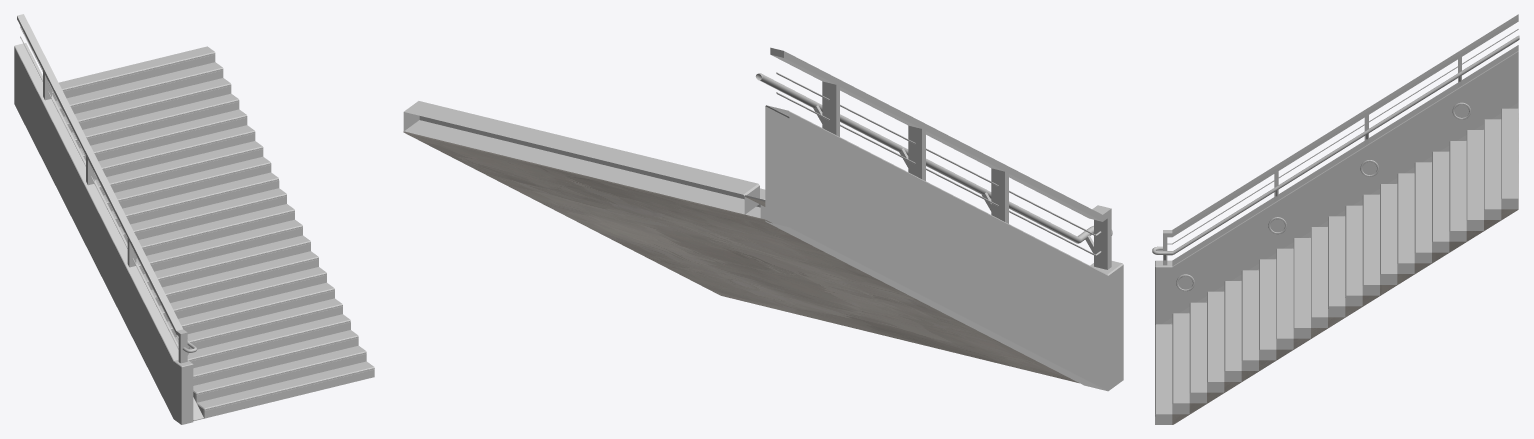
File: MESH_StairsL_First.fbx
The picture shows the model from 3 angles, left to right: view 1: azimuth 30°, elevation 25°; view 2: azimuth 150°, elevation 25°; view 3: azimuth 270°, elevation 25°; orthographic projection. The views are drawn at different scales.
Parts seen in each view (by area): view 1: StairsL, ConcreteBaseL, HandleL; view 2: ConcreteBaseL, StairsL, HandleL; view 3: StairsL, ConcreteBaseL, HandleL, LampsL.
Part boxes in pixels (box(x1,y1,x2,y2)): StairsL: box(52, 46, 374, 420); ConcreteBaseL: box(14, 43, 193, 424); HandleL: box(17, 14, 197, 363); ConcreteBaseL: box(765, 105, 1123, 391); StairsL: box(403, 101, 1079, 383); HandleL: box(755, 47, 1112, 269); StairsL: box(1155, 103, 1518, 424); ConcreteBaseL: box(1155, 45, 1518, 324); HandleL: box(1152, 14, 1519, 265); LampsL: box(1176, 102, 1470, 291).
Bounding box in the file's own units: 400 × 567 × 607.
